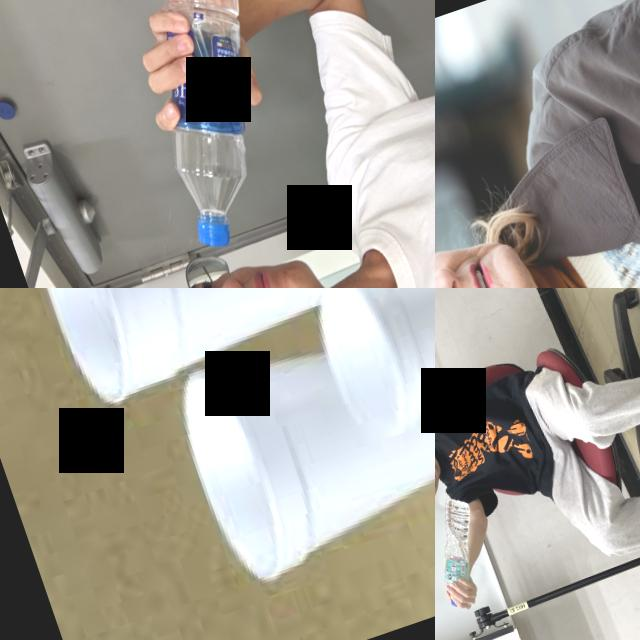bottle: (105, 0, 322, 257), (435, 490, 499, 607)
cup: (162, 288, 435, 592), (10, 288, 435, 417), (302, 288, 435, 453)
